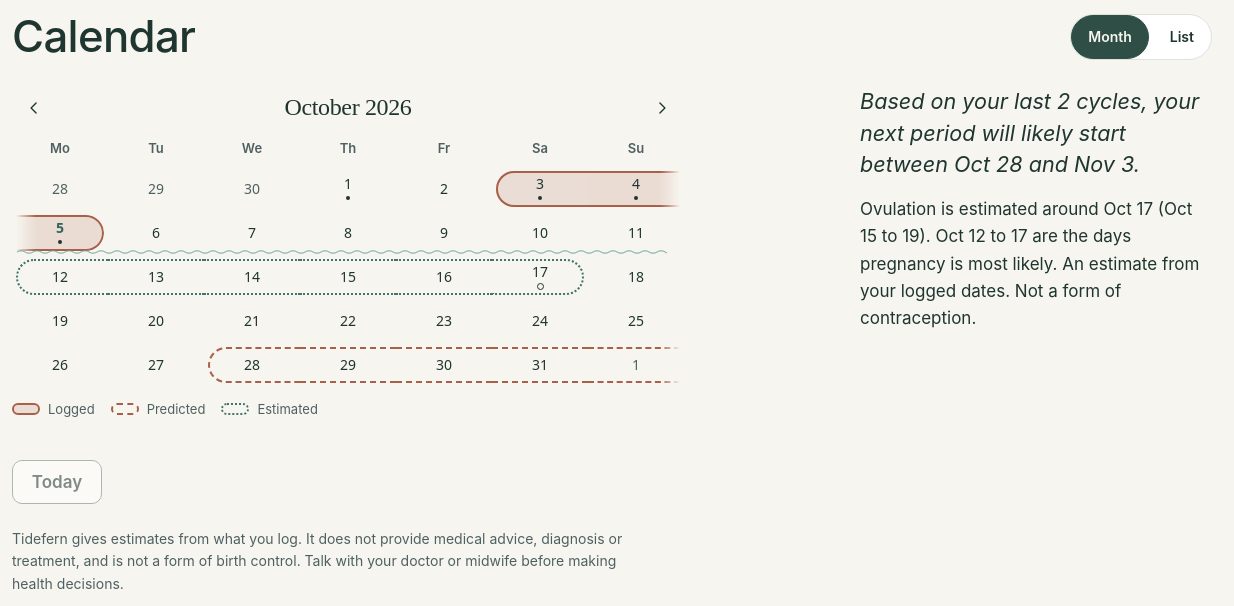
the list view › swaps in place, keeps the view in the address, and lists the month's days newest first
What coordinates should you click on to do the following:
click the radio button labelled "List"
I would click on:
 (1182, 37)
Its box is [1153, 15, 1211, 59].
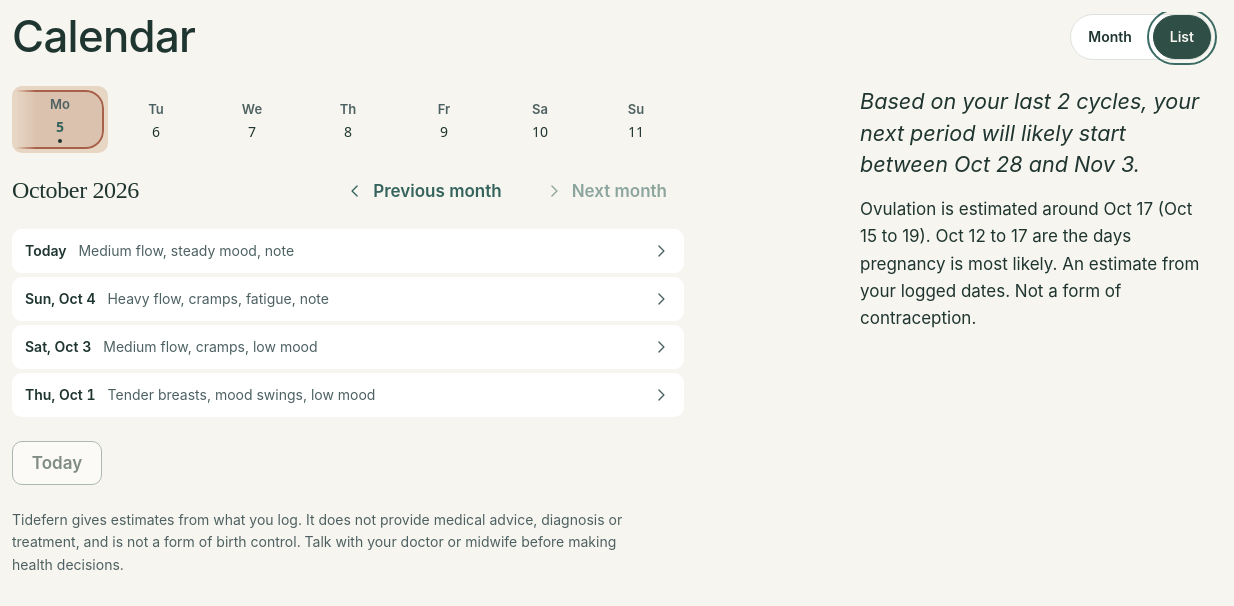
Expected: the list item "Mo 5" is shown, [12, 86, 108, 153]
